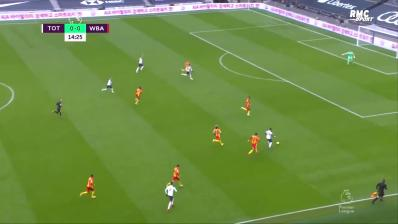football: (275, 140, 281, 147)
player: (80, 174, 98, 200), (164, 182, 178, 214), (168, 164, 185, 186), (246, 131, 260, 156), (212, 125, 227, 148), (240, 95, 254, 117), (179, 63, 195, 81), (264, 127, 276, 150), (134, 53, 146, 75), (342, 49, 357, 66), (102, 78, 117, 94), (133, 86, 144, 106)
referee: (52, 98, 64, 119)
